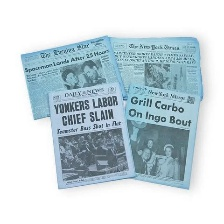news_paper: (43, 79, 140, 192), (18, 32, 132, 123), (119, 81, 203, 193), (106, 31, 209, 103)
